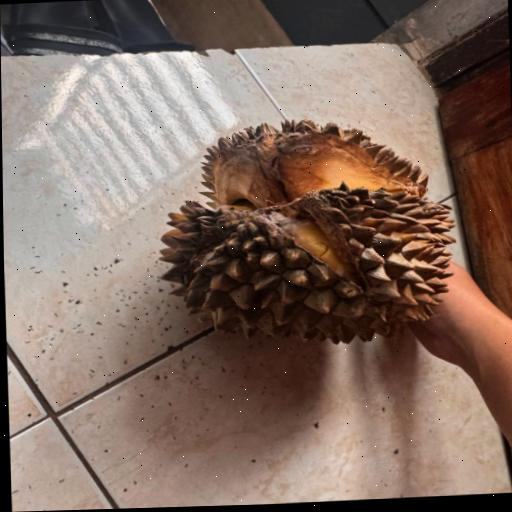rot: (127, 77, 481, 373)
